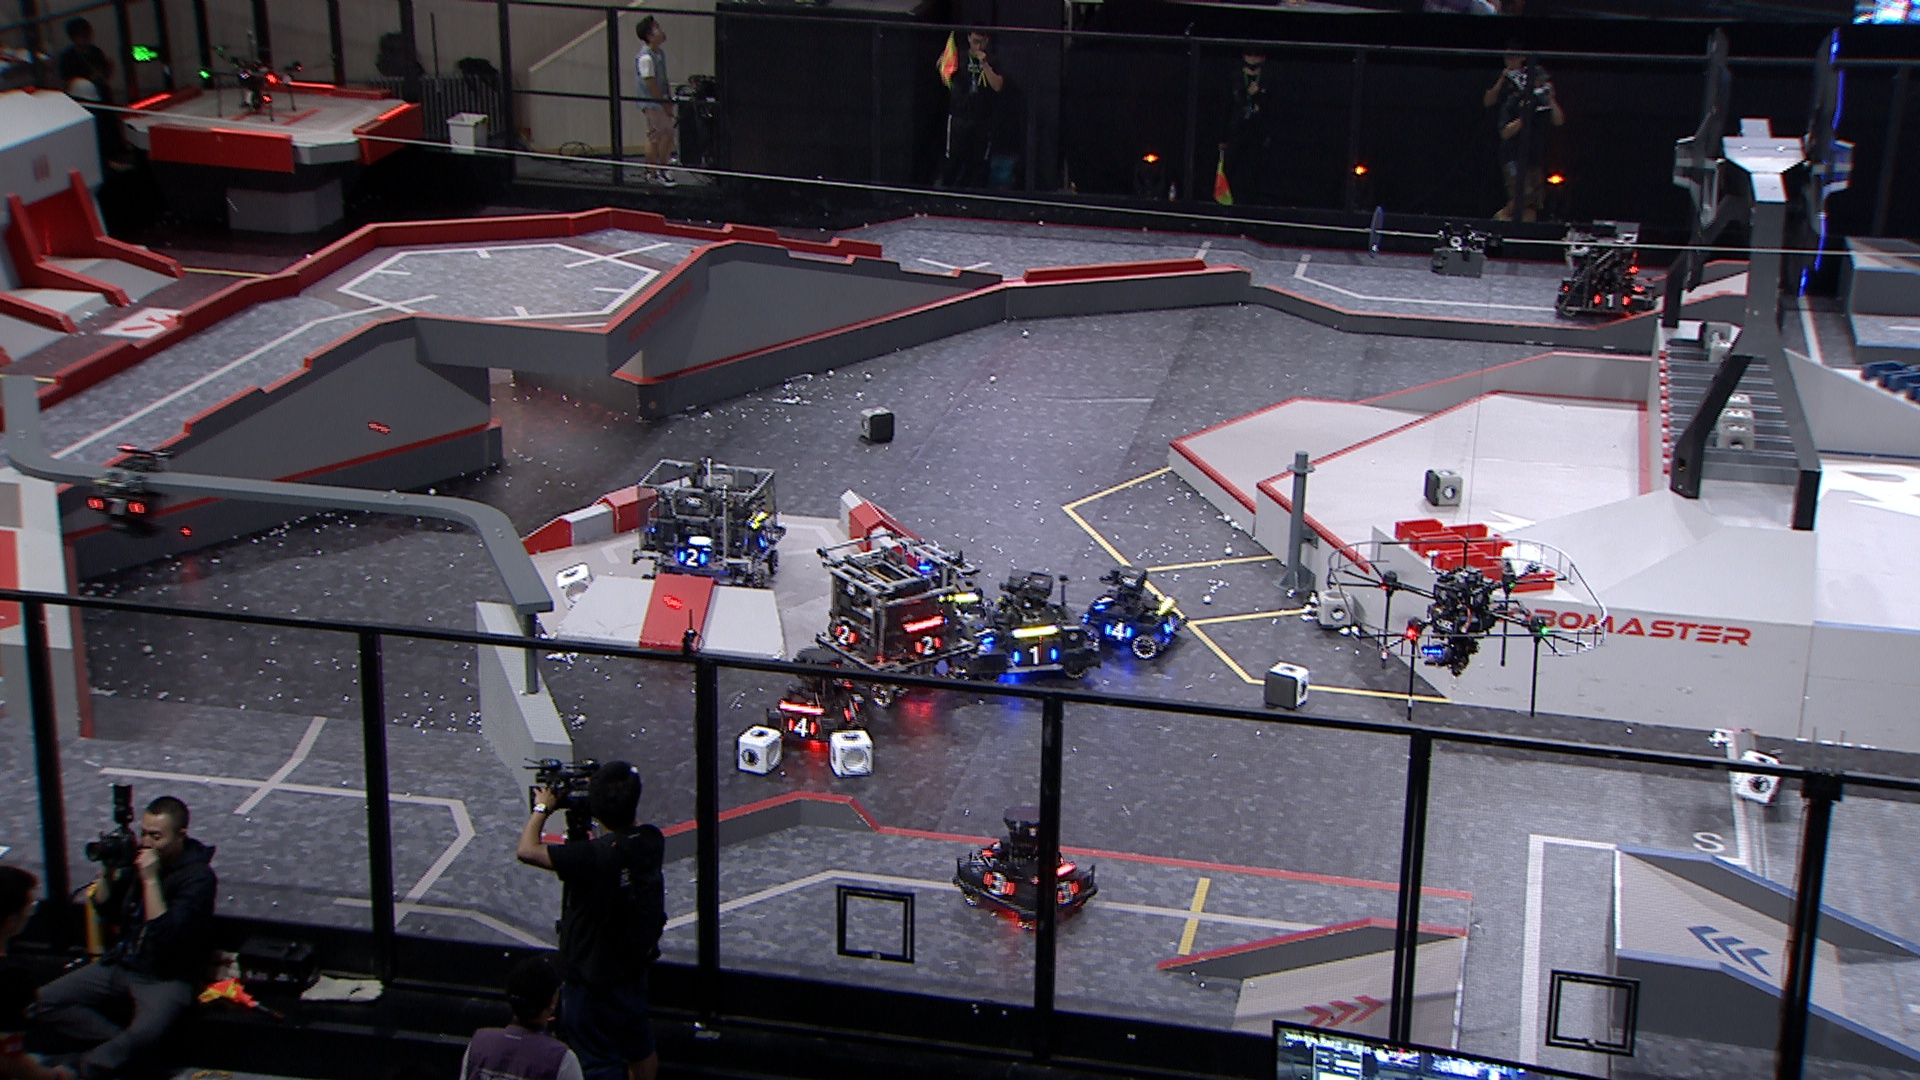armor: (83, 495, 145, 518), (1011, 641, 1058, 669), (1054, 877, 1083, 909), (982, 872, 1015, 898), (1592, 290, 1633, 310), (675, 547, 709, 570), (913, 633, 942, 659), (1102, 618, 1134, 642), (785, 717, 818, 738), (1091, 589, 1116, 613), (969, 622, 994, 646), (833, 622, 856, 647), (843, 695, 860, 723), (1162, 612, 1183, 633), (754, 527, 774, 550)
car: (816, 526, 977, 699), (628, 452, 785, 589), (951, 806, 1100, 930), (965, 567, 1096, 684), (1079, 566, 1189, 665), (1557, 216, 1659, 319), (769, 644, 873, 744)
watcher: (82, 442, 174, 542)
